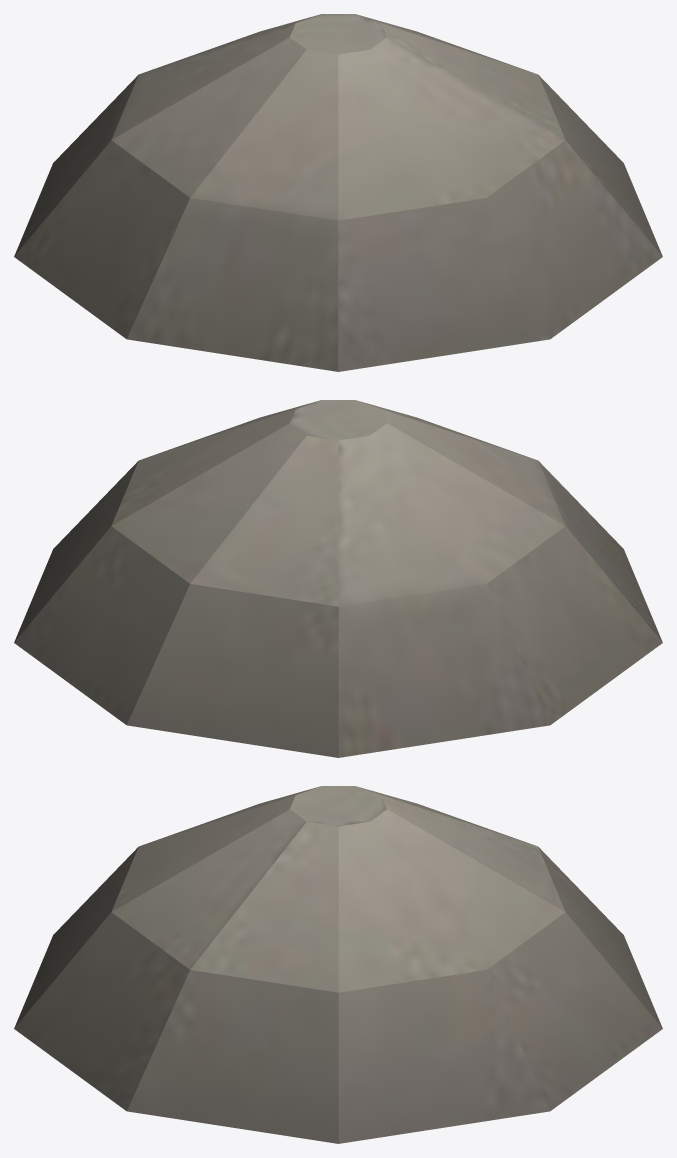
File: nutrients.glb
3 renders of one model, top to bottom at view 1: azimuth 30°, elevation 25°; view 2: azimuth 150°, elevation 25°; view 3: azimuth 270°, elevation 25°, orthographic.
Parts seen in each view (by area): view 1: nutrients; view 2: nutrients; view 3: nutrients.
Boxes of the visible parts, x1,y1,x2,y2 form: nutrients: [14, 14, 662, 371]; nutrients: [14, 400, 662, 757]; nutrients: [14, 786, 662, 1143].
Size of the model in its own units: 0.2328 by 0.08 by 0.2364.
Materials: 1 (1 with a texture image).
